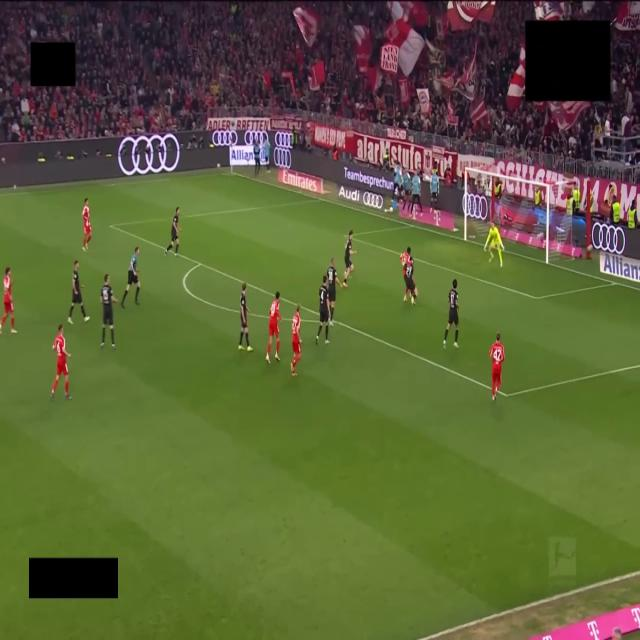player: (51, 324, 70, 399), (68, 261, 89, 324), (101, 274, 117, 349), (0, 267, 17, 334), (266, 292, 281, 363), (327, 258, 342, 326), (489, 333, 504, 400), (444, 280, 458, 348), (238, 283, 252, 351), (484, 222, 504, 267), (316, 275, 329, 343), (291, 305, 301, 375), (343, 231, 355, 287), (165, 208, 179, 255), (405, 256, 417, 304), (83, 199, 91, 251), (400, 247, 411, 280)
referee: (121, 247, 140, 308)
